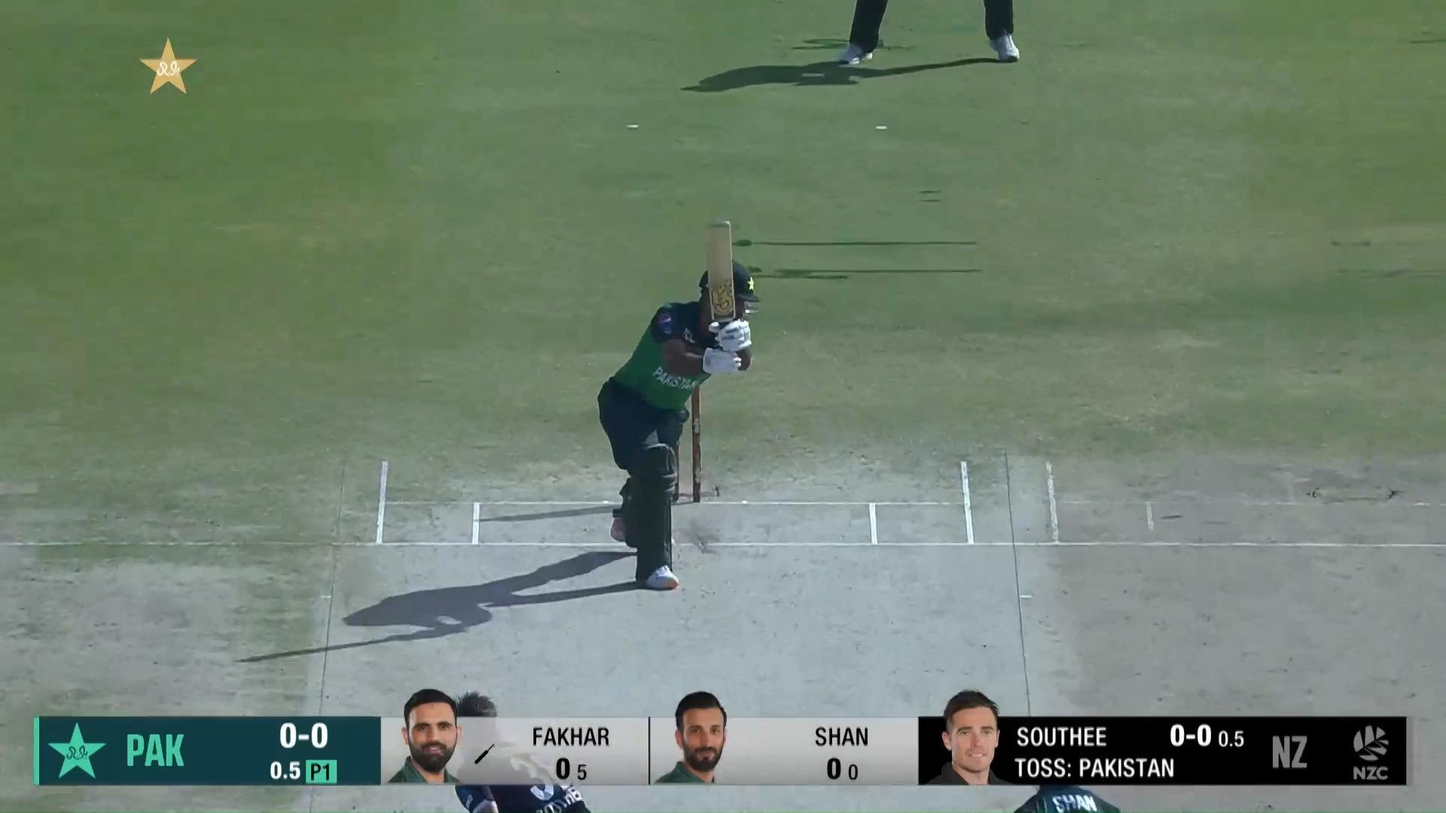BM 1: (594, 217, 762, 593)
BO: (446, 689, 597, 813)
